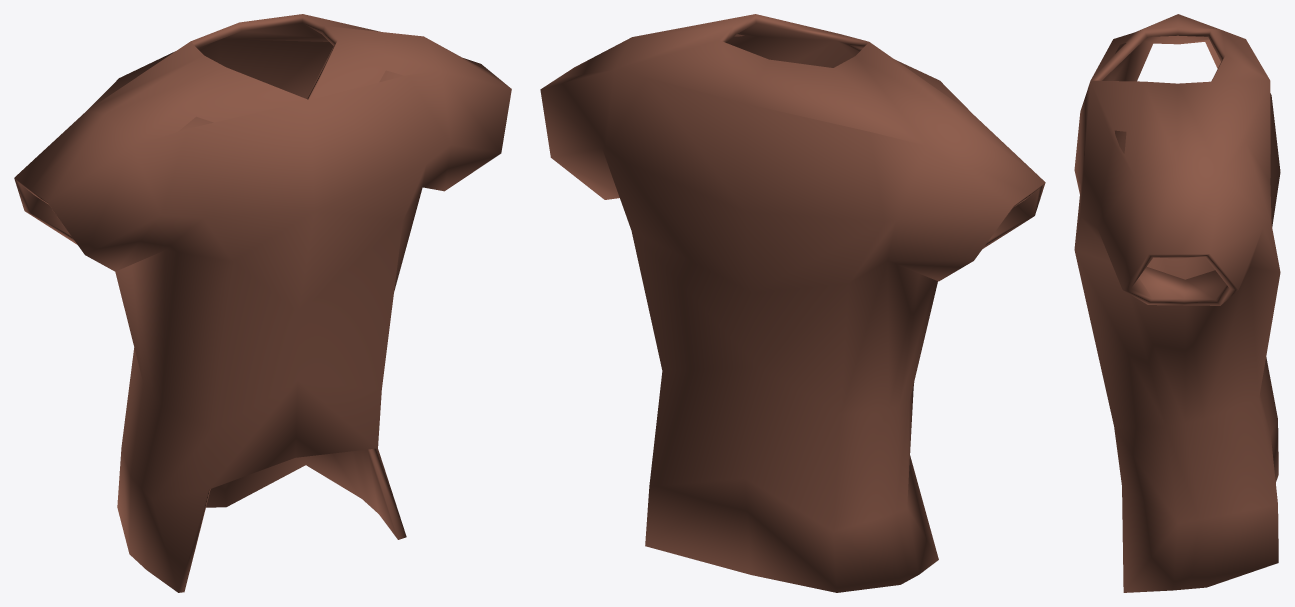
The model's file is leather_chestplate.gltf.
3 renders of one model, left to right at view 1: azimuth 30°, elevation 25°; view 2: azimuth 150°, elevation 25°; view 3: azimuth 270°, elevation 25°, orthographic. The views are drawn at different scales.
Parts seen in each view (by area): view 1: Cube; view 2: Cube; view 3: Cube.
Boxes of the visible parts, bbox=[...] form: Cube: bbox=[14, 14, 511, 592]; Cube: bbox=[540, 14, 1045, 592]; Cube: bbox=[1074, 14, 1280, 592].
Bounding box in the file's own units: 0.5913 × 0.6118 × 0.2351.
